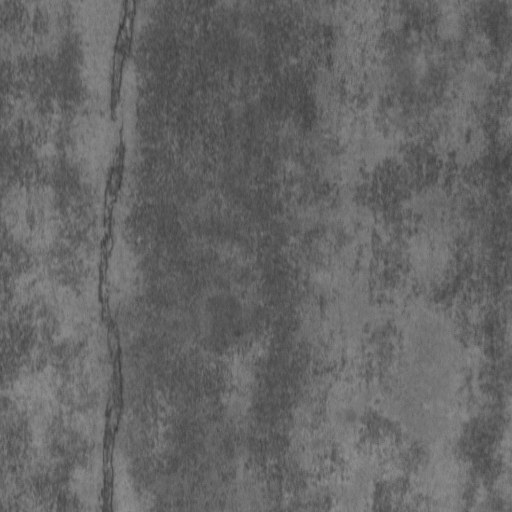zongxiangliewen: (96, 1, 139, 510)
